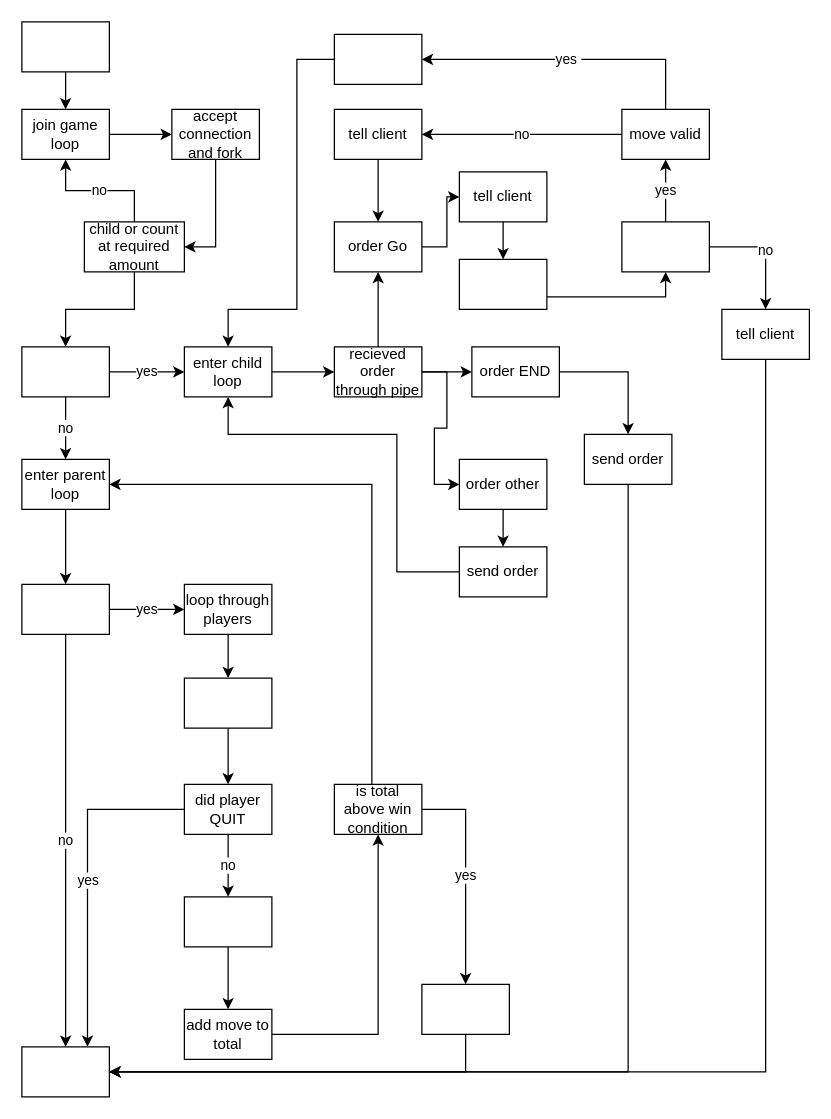
Some shapes in this 831 by 1119 pixel diagram are drawn without their labels. The shapes that lost their labels are listed below. From the top down, each one's centre as x and y in pixels, then its label:
point 65,46: start
point 377,58: tell parent through pipe
point 665,246: protocol valid
point 502,283: get client response
point 65,371: child?
point 65,608: enough players
point 227,702: tell player to go through pipe
point 227,921: player MOVEd
point 465,1008: tell players
point 65,1071: end
